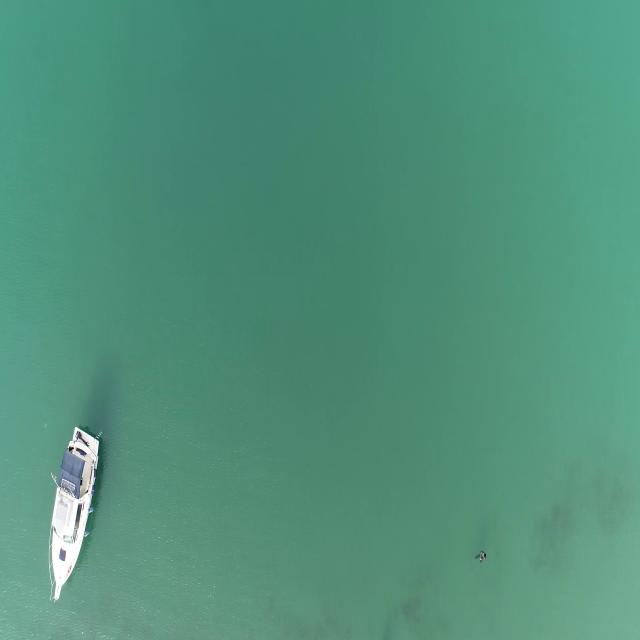boat: (44, 425, 105, 604)
person: (473, 546, 489, 568)
